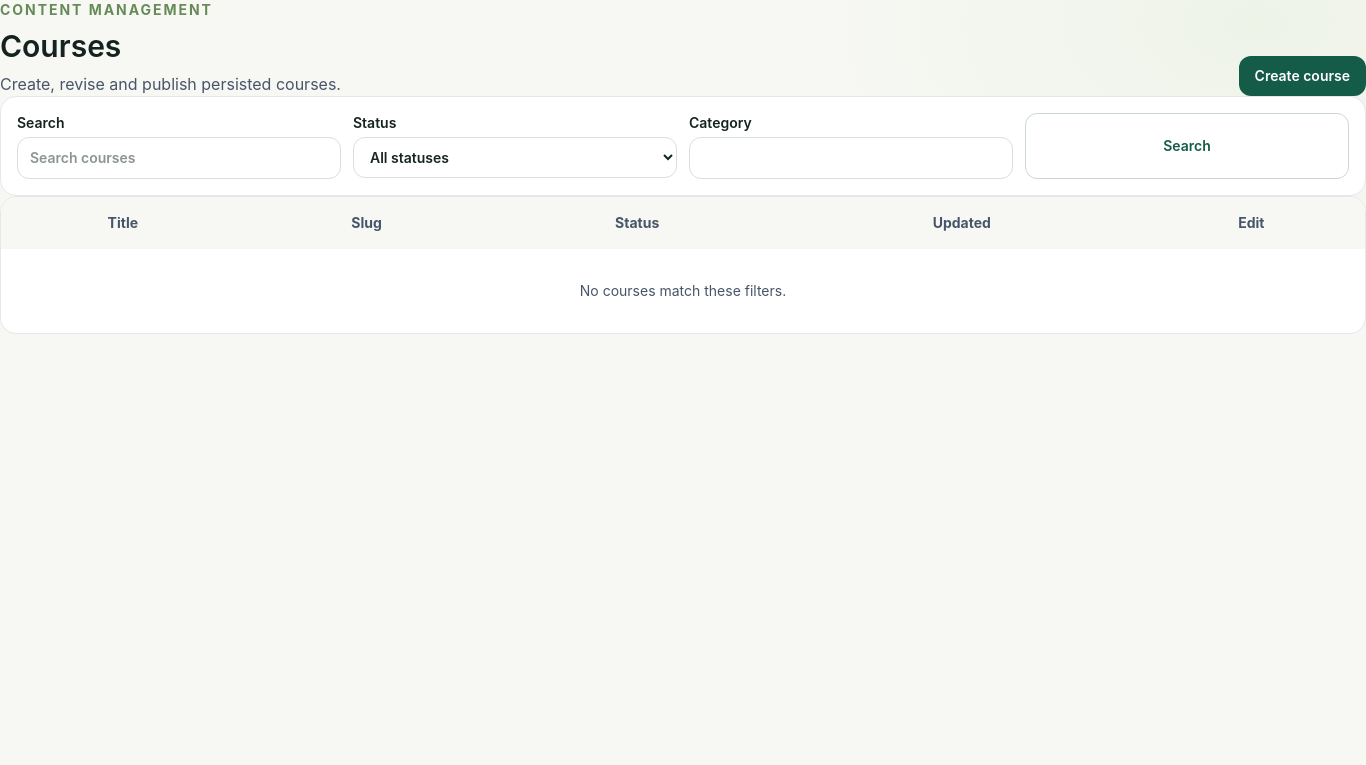
Test case: admin content manager › creates a validated draft and reports success
Expected: the text "No courses match these filters." is shown, [1,249,1365,333]
Click the button "Create course": click(1302, 76) [1239,56,1365,96]
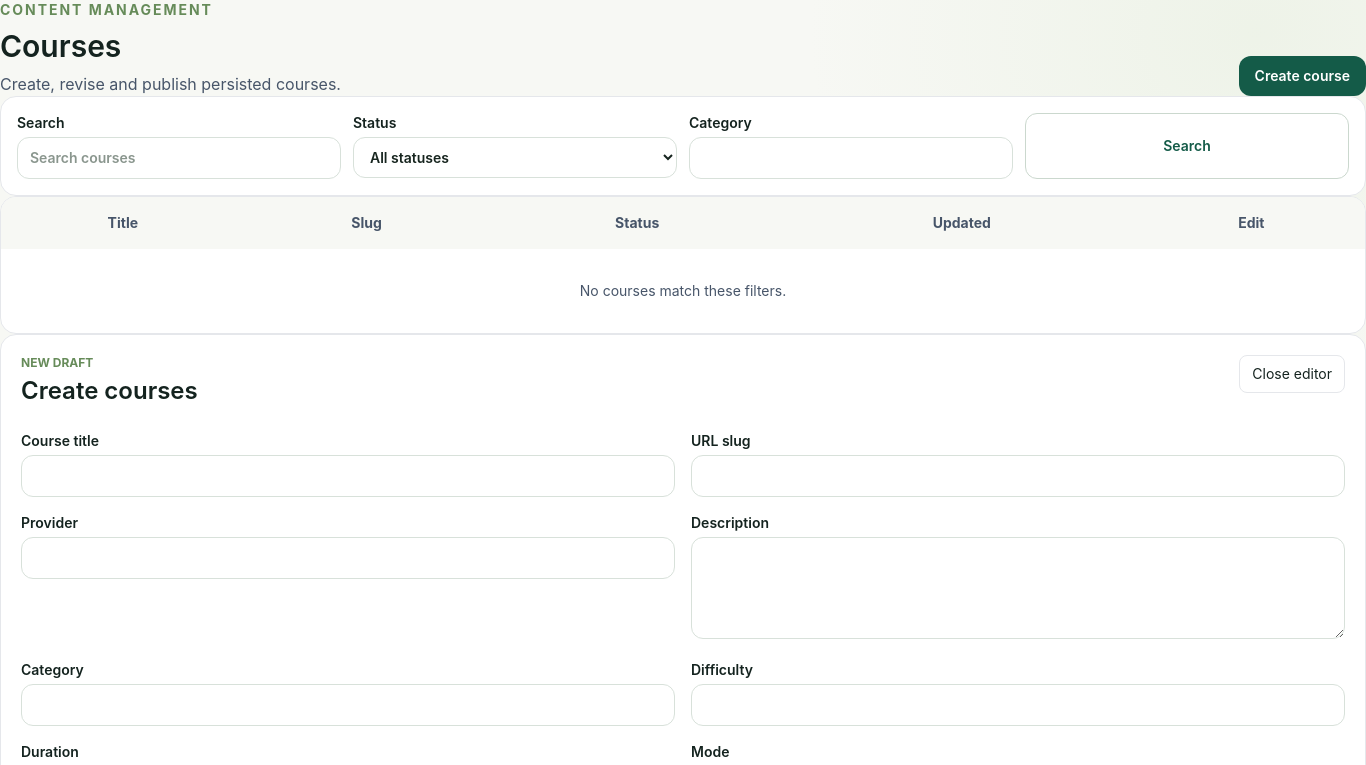
In the field labelled "Course title": (348, 476) [21,455,675,497], type "Civics"
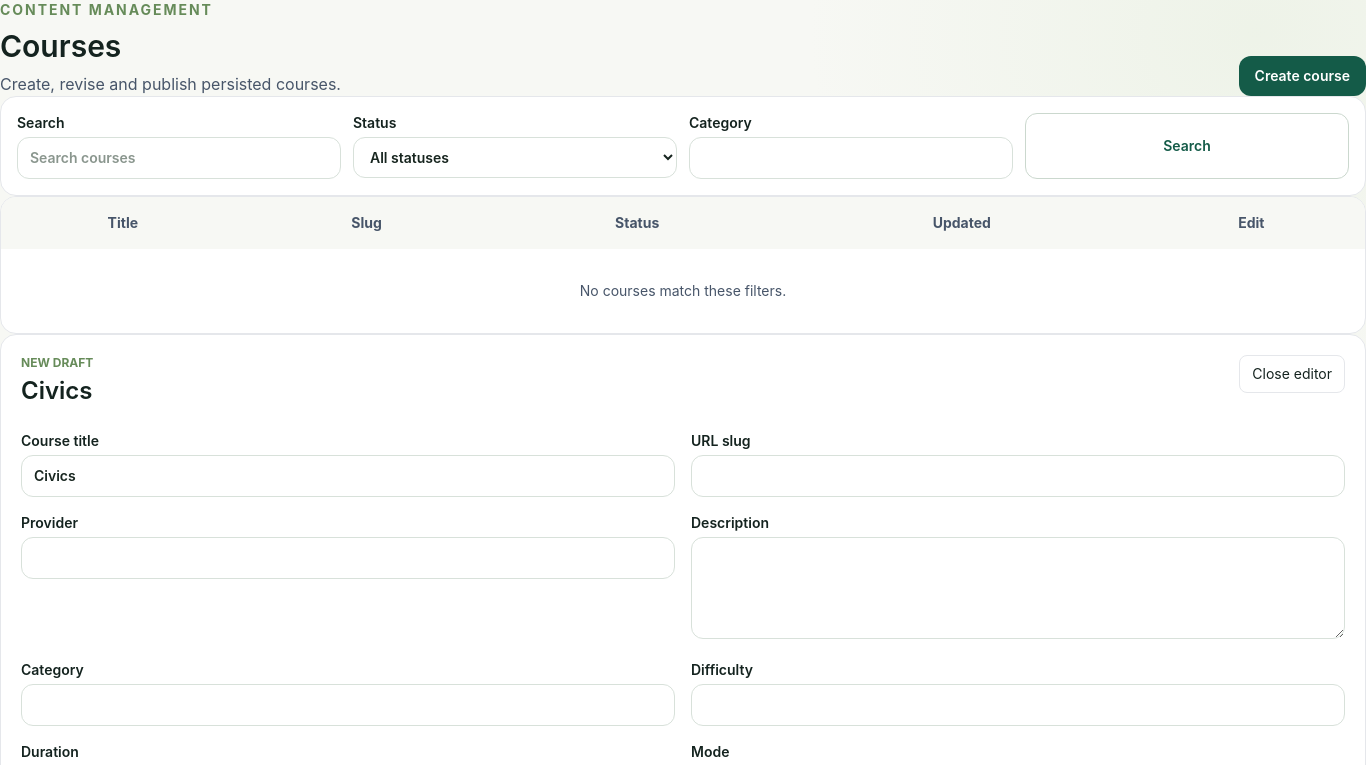
In the field labelled "URL slug": (1018, 476) [691,455,1345,497], type "civics"
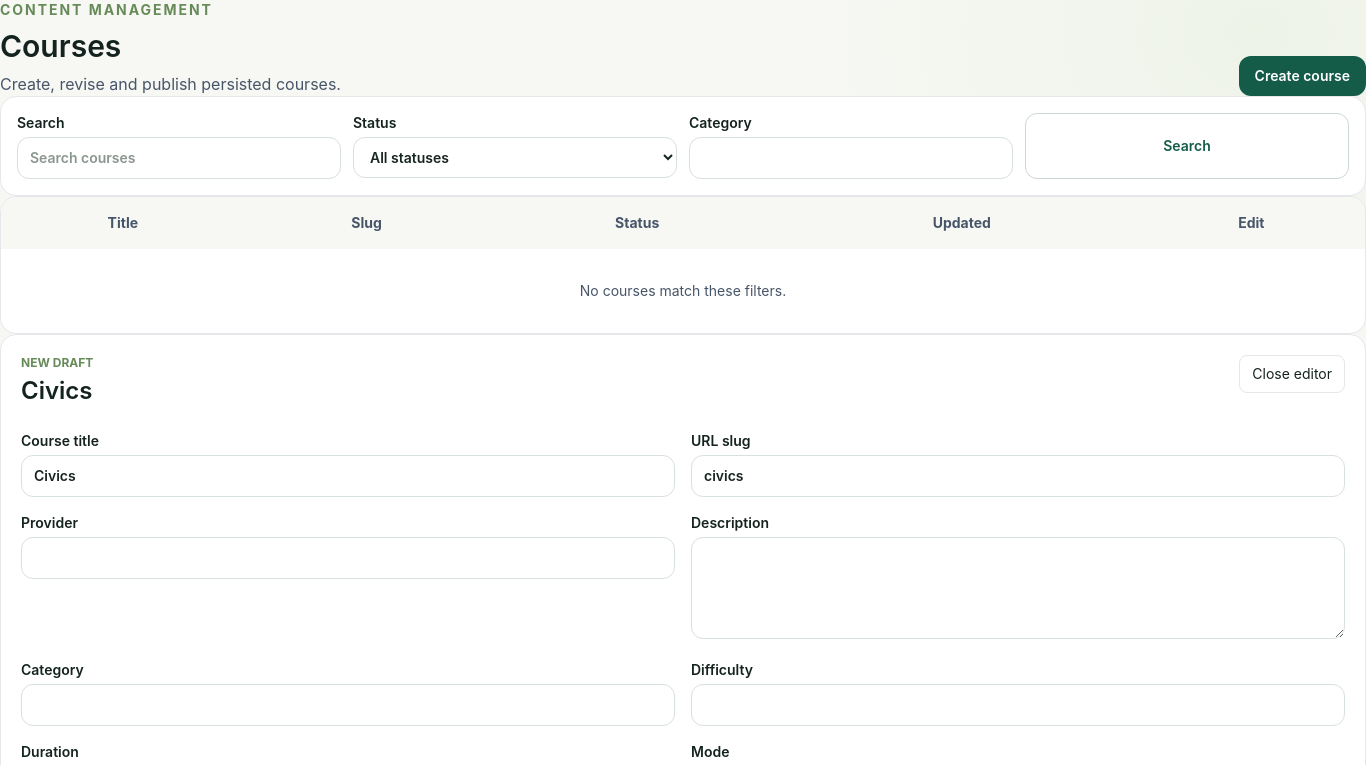
In the field labelled "Provider": (348, 558) [21,537,675,579], type "Elevra"
(page scrolled)
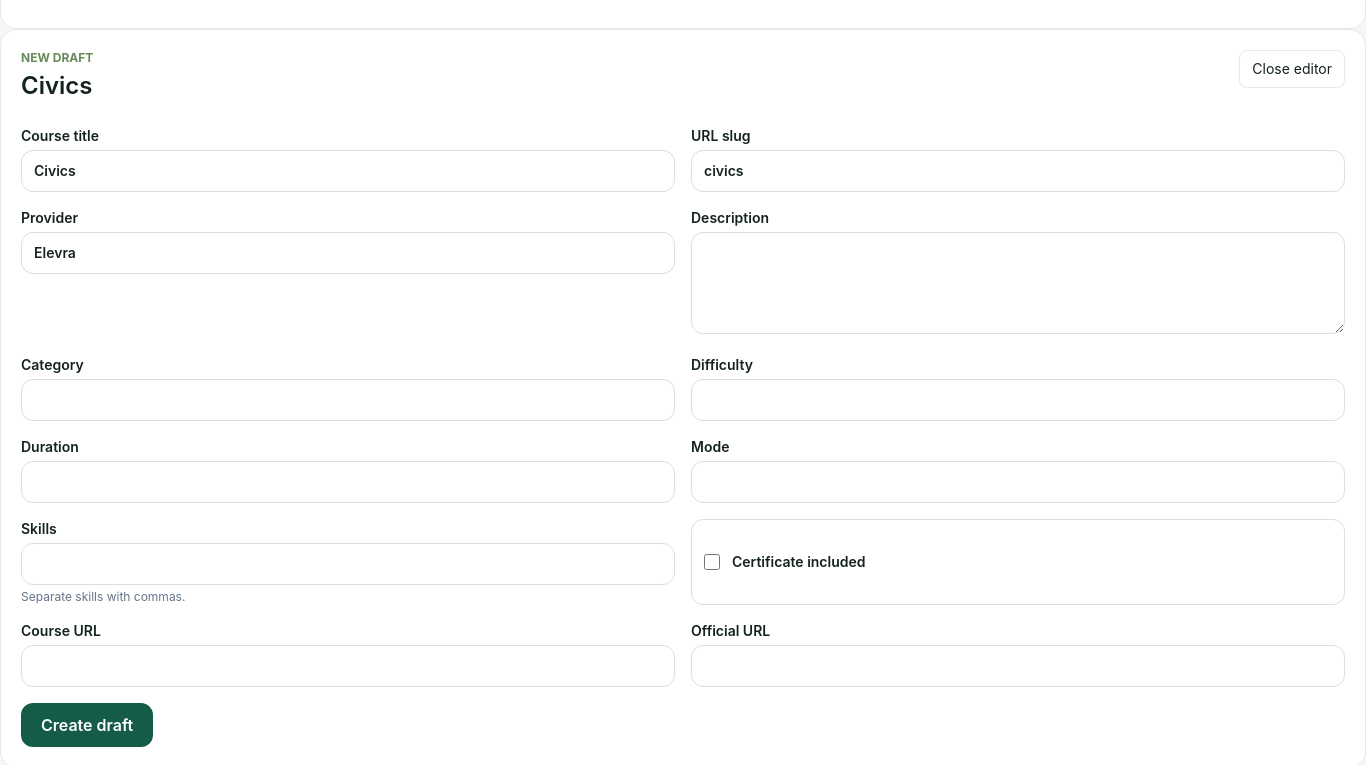
Click the button "Create draft": click(87, 725) [21,703,153,747]
(page scrolled)
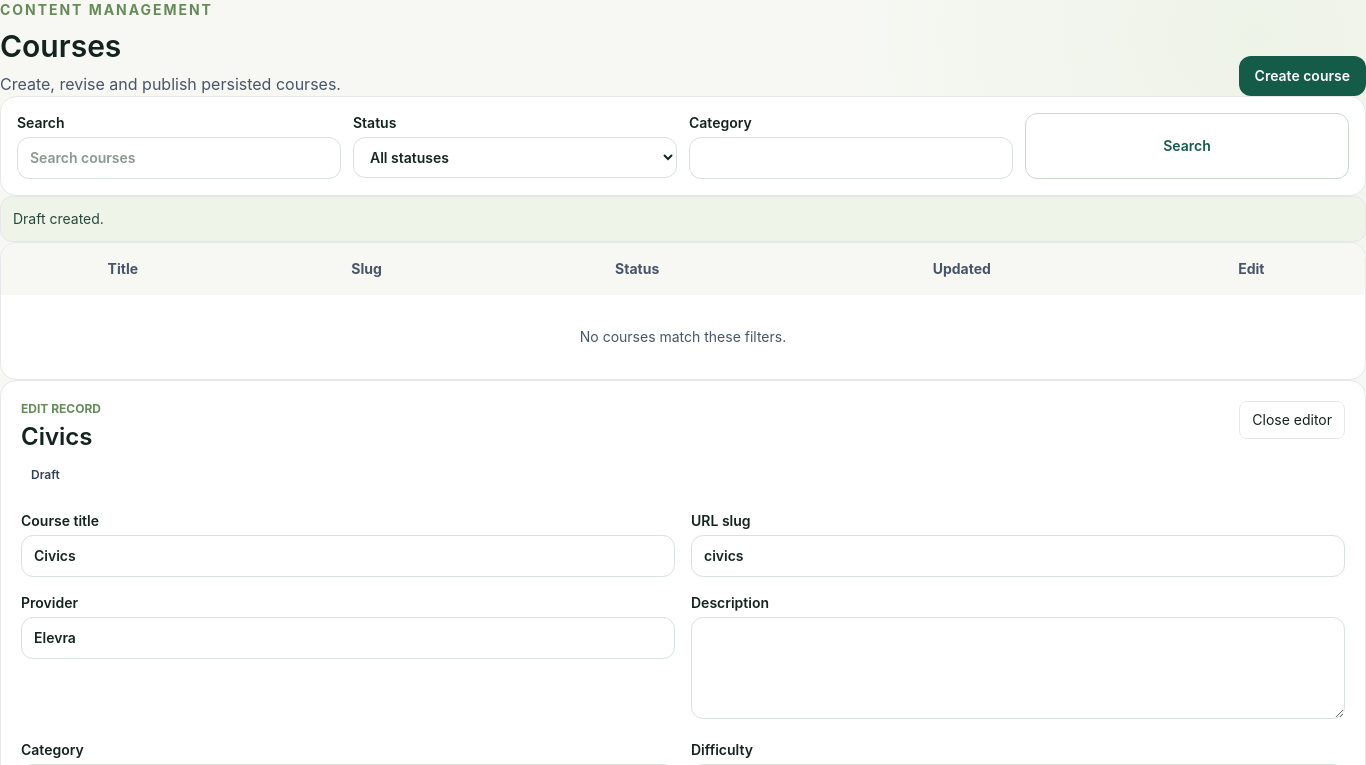
Expected: the text "Draft created." is shown, [13,210,104,227]
